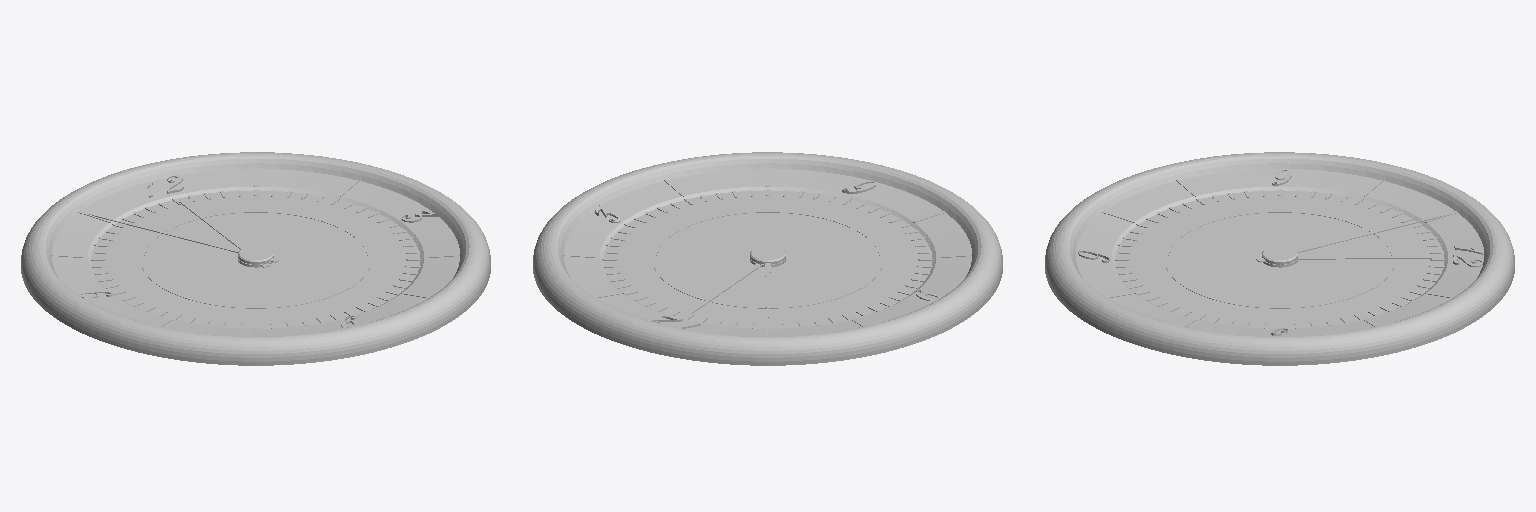
File: clock1.obj
The picture shows the model from 3 angles: view 1: azimuth 30°, elevation 25°; view 2: azimuth 150°, elevation 25°; view 3: azimuth 270°, elevation 25°; orthographic projection.
Parts seen in each view (by area): view 1: clock1; view 2: clock1; view 3: clock1.
Boxes of the visible parts, x1=… form: clock1: x1=21, y1=152, x2=490, y2=365; clock1: x1=533, y1=152, x2=1002, y2=365; clock1: x1=1045, y1=152, x2=1514, y2=365.
Size of the model in its own units: 396 by 19.29 by 396.